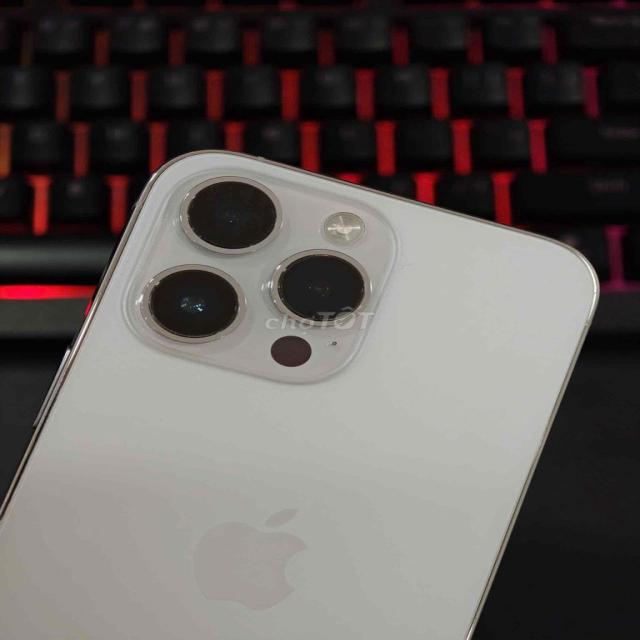gen_14: (12, 146, 604, 633)
